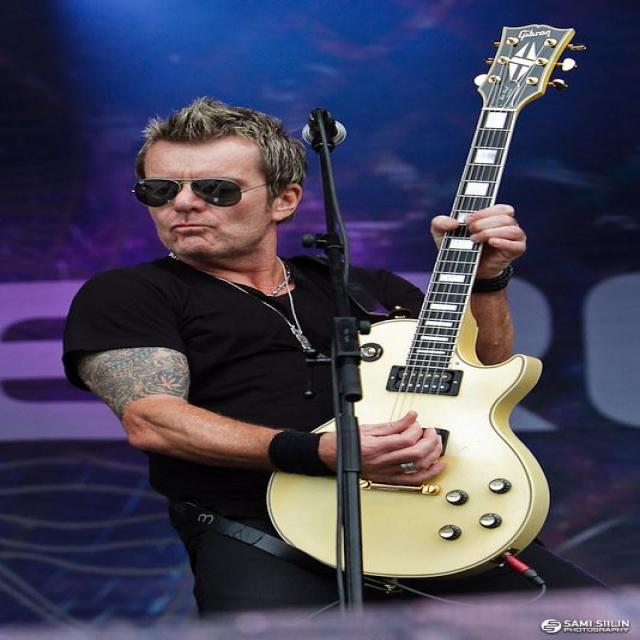guitar: (356, 25, 577, 577)
